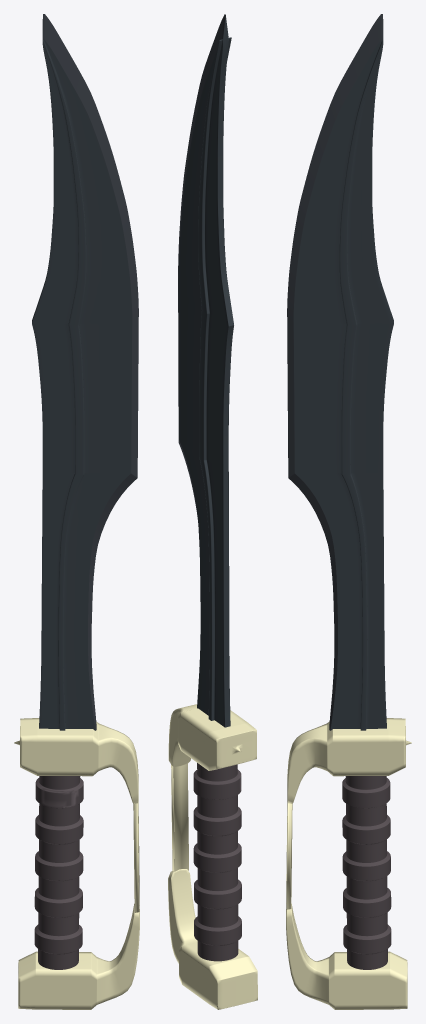
Rendered from kilic2.fbx.
3 renders of one model, left to right at view 1: azimuth 90°, elevation 25°; view 2: azimuth 210°, elevation 25°; view 3: azimuth 270°, elevation 25°, orthographic.
Parts seen in each view (by area): view 1: sword; view 2: sword; view 3: sword.
Boxes of the visible parts, bbox=[...] form: sword: bbox=[14, 14, 139, 1009]; sword: bbox=[168, 14, 257, 1009]; sword: bbox=[286, 14, 411, 1009].
Bounding box in the file's own units: 98.92 × 2235 × 259.
